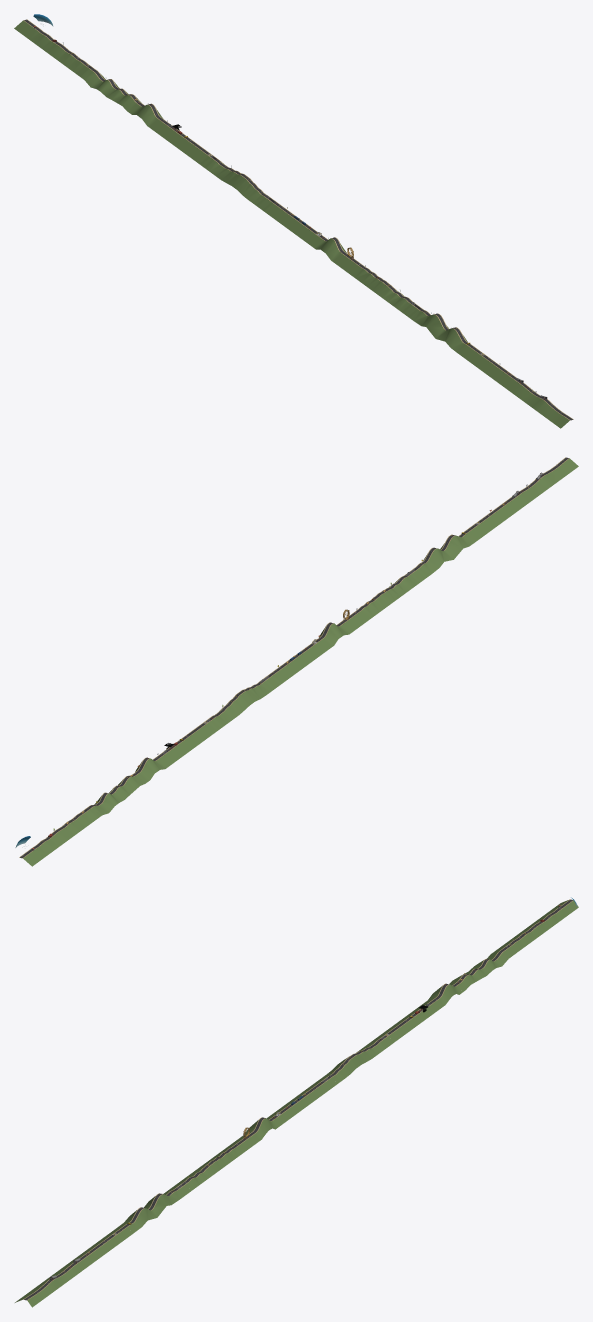
File: level_6_desert.glb
The picture shows the model from 3 angles, top to bottom: view 1: azimuth 30°, elevation 25°; view 2: azimuth 150°, elevation 25°; view 3: azimuth 330°, elevation 25°; orthographic projection.
Parts seen in each view (by area): view 1: road_hard_02, road_normal_10, road_normal_12, road_easy_12, road_easy_02, road_easy_00, road_easy_00 (2), road_easy_06, road_easy_00 (1); view 2: road_hard_02, road_normal_10, road_normal_12, road_easy_12, road_easy_02, road_easy_00 (2), road_easy_00, road_easy_00 (1), road_easy_06; view 3: road_hard_02, road_normal_10, road_normal_12, road_easy_12, road_easy_02, road_easy_06, road_easy_00 (2), road_easy_00 (1), road_easy_00.
Boxes of the visible parts, bbox=[...] form: road_hard_02: bbox=[410, 309, 472, 354]; road_normal_10: bbox=[205, 159, 268, 205]; road_normal_12: bbox=[80, 68, 143, 113]; road_easy_12: bbox=[351, 266, 413, 311]; road_easy_02: bbox=[25, 28, 88, 73]; road_easy_00: bbox=[149, 118, 211, 163]; road_easy_00 (2): bbox=[460, 346, 520, 391]; road_easy_06: bbox=[510, 383, 573, 428]; road_easy_00 (1): bbox=[264, 202, 327, 248]; road_hard_02: bbox=[415, 531, 477, 576]; road_normal_10: bbox=[210, 680, 273, 726]; road_normal_12: bbox=[85, 772, 148, 817]; road_easy_12: bbox=[356, 574, 419, 619]; road_easy_02: bbox=[30, 812, 93, 858]; road_easy_00 (2): bbox=[465, 494, 528, 539]; road_easy_00: bbox=[154, 722, 216, 767]; road_easy_00 (1): bbox=[269, 637, 332, 683]; road_easy_06: bbox=[518, 457, 578, 503]; road_hard_02: bbox=[116, 1189, 182, 1233]; road_normal_10: bbox=[320, 1039, 387, 1084]; road_normal_12: bbox=[449, 948, 512, 992]; road_easy_12: bbox=[174, 1146, 241, 1190]; road_easy_02: bbox=[500, 908, 567, 952]; road_easy_06: bbox=[15, 1263, 82, 1307]; road_easy_00 (2): bbox=[65, 1226, 132, 1270]; road_easy_00 (1): bbox=[267, 1082, 328, 1126]; road_easy_00: bbox=[376, 998, 443, 1042].
Size of what is drawn, in the model's own units: 58.1 by 43.55 by 2116.
7 materials, 7 textured.
